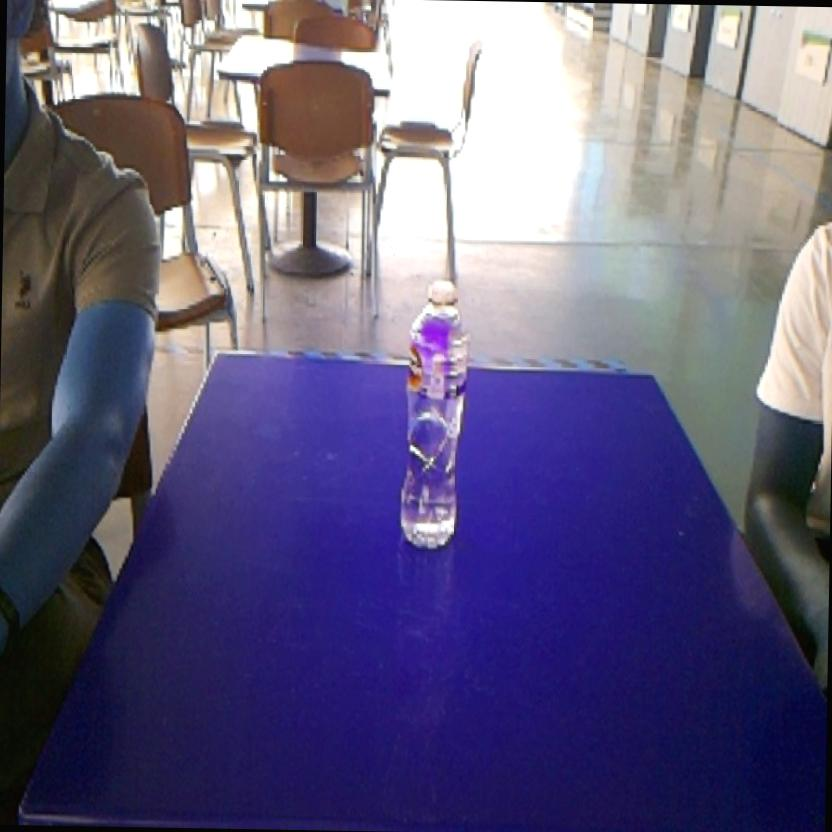no_cap: (390, 270, 480, 560)
